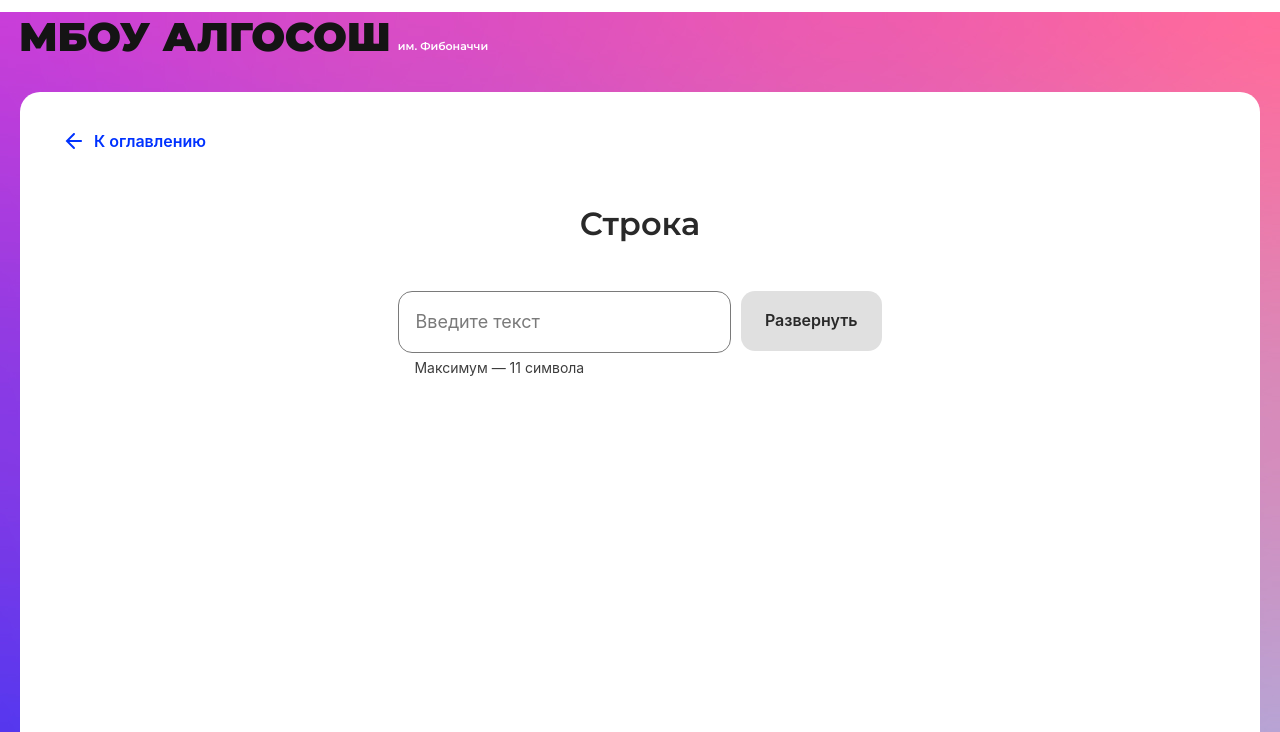
Test: Тесты для страницы рекурсии › должен корректно развернуть строку и отследить анимацию подсветки изменяемых элементов,
Expected: the heading "Строка" is shown, [580, 204, 700, 243]
In the field with placeholder "Введите текст": (564,322) [398, 291, 730, 353], type "12345"
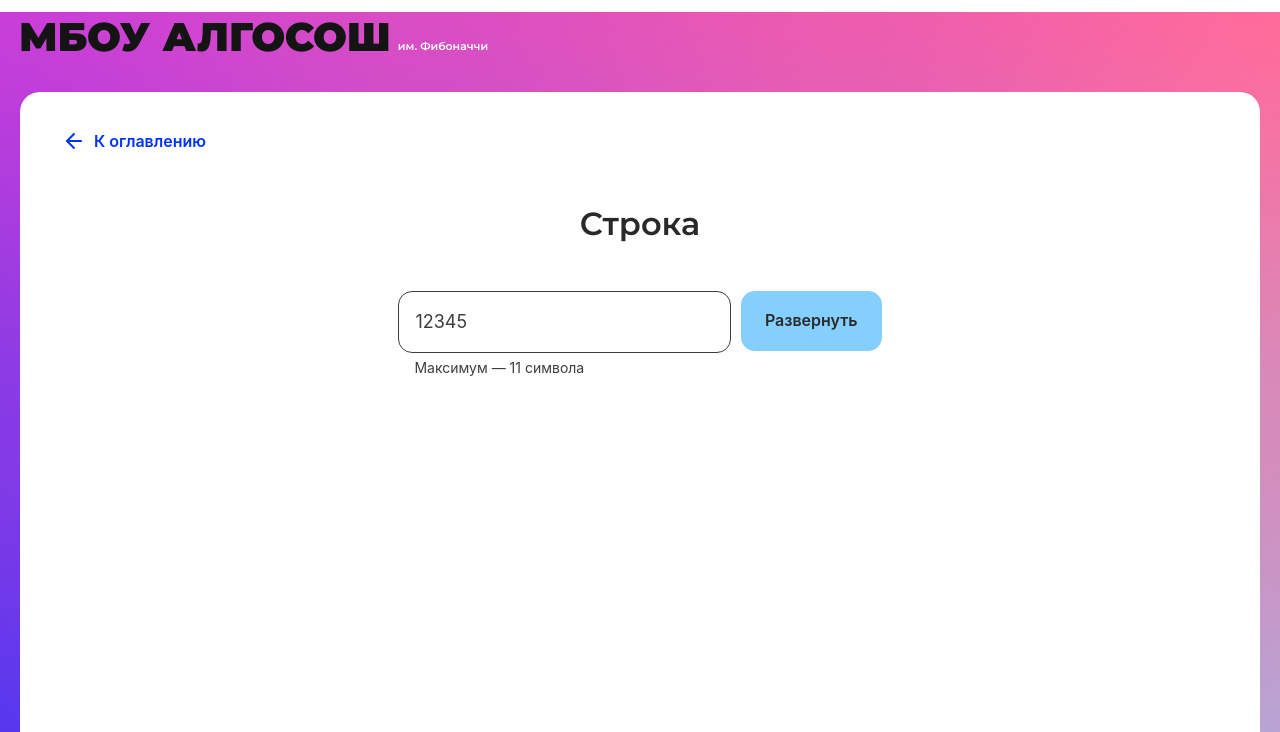
Click the button with test id "btnReverseStr": (812,321) [741, 291, 882, 351]
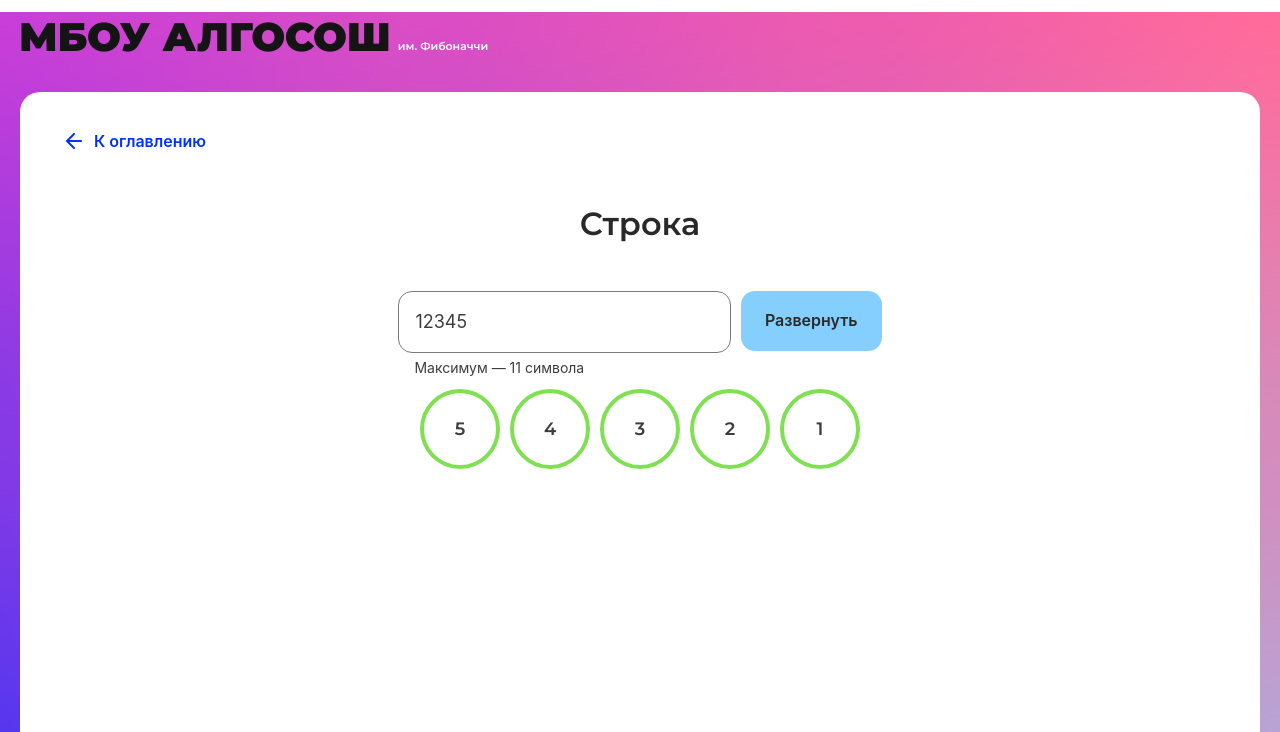
Result: the number of elements with test id "circle" is 5 at [420, 389, 500, 469]; [510, 389, 590, 469]; [600, 389, 680, 469]; [690, 389, 770, 469]; [780, 389, 860, 469]
